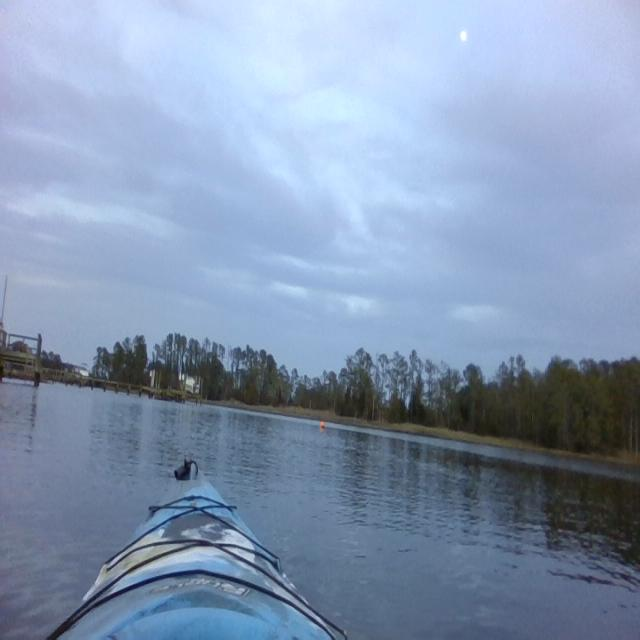Buoy: (320, 418, 327, 433)
